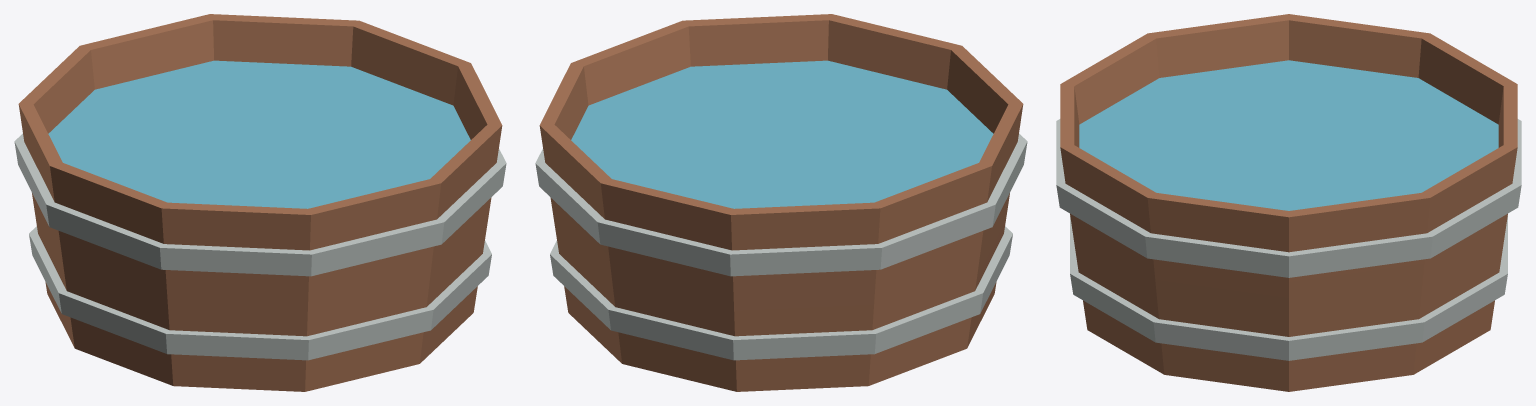
File: F_JumpBucket_01.fbx
3 renders of one model, left to right at view 1: azimuth 30°, elevation 25°; view 2: azimuth 150°, elevation 25°; view 3: azimuth 270°, elevation 25°, orthographic.
Visible parts, largest first — view 1: F_JumpBucket_01; view 2: F_JumpBucket_01; view 3: F_JumpBucket_01.
Boxes of the visible parts, box(x1,y1,x2,y2) form: F_JumpBucket_01: box(14, 14, 506, 391); F_JumpBucket_01: box(535, 14, 1027, 391); F_JumpBucket_01: box(1056, 14, 1521, 391).
Size of the model in its own units: 282 by 119 by 268.
